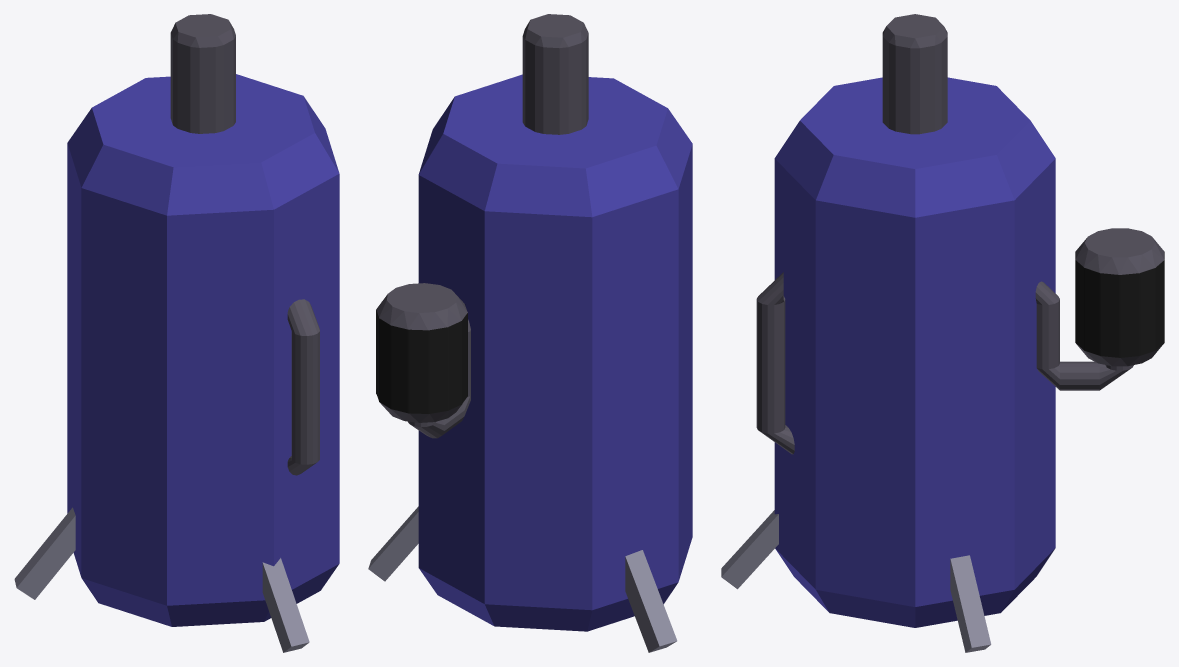
The model's file is oil_pump.glb.
3 views of the same model, side by side, from view 1: azimuth 30°, elevation 25°; view 2: azimuth 150°, elevation 25°; view 3: azimuth 270°, elevation 25° (orthographic).
Parts seen in each view (by area): view 1: Cylinder, Pipe, Cube, Cube.002; view 2: Cylinder, Cylinder.001, Cube.002, Cube.001, Pipe.001; view 3: Cylinder, Cylinder.001, Pipe, Pipe.001, Cube.001, Cube.
Part boxes in pixels (x1,y1,x2,y2): Cylinder: (67,14,339,626); Pipe: (287,299,319,475); Cube: (262,558,309,652); Cube.002: (14,507,75,599); Cylinder: (418,14,692,631); Cylinder.001: (376,283,467,422); Cube.002: (625,550,677,652); Cube.001: (368,506,418,581); Pipe.001: (408,319,470,438); Cylinder: (774,14,1055,627); Cylinder.001: (1075,228,1164,366); Pipe: (756,272,794,454); Pipe.001: (1035,281,1133,390); Cube.001: (950,555,991,652); Cube: (721,510,778,589).
Size of the model in its own units: 2.53 by 4.4 by 3.15.
